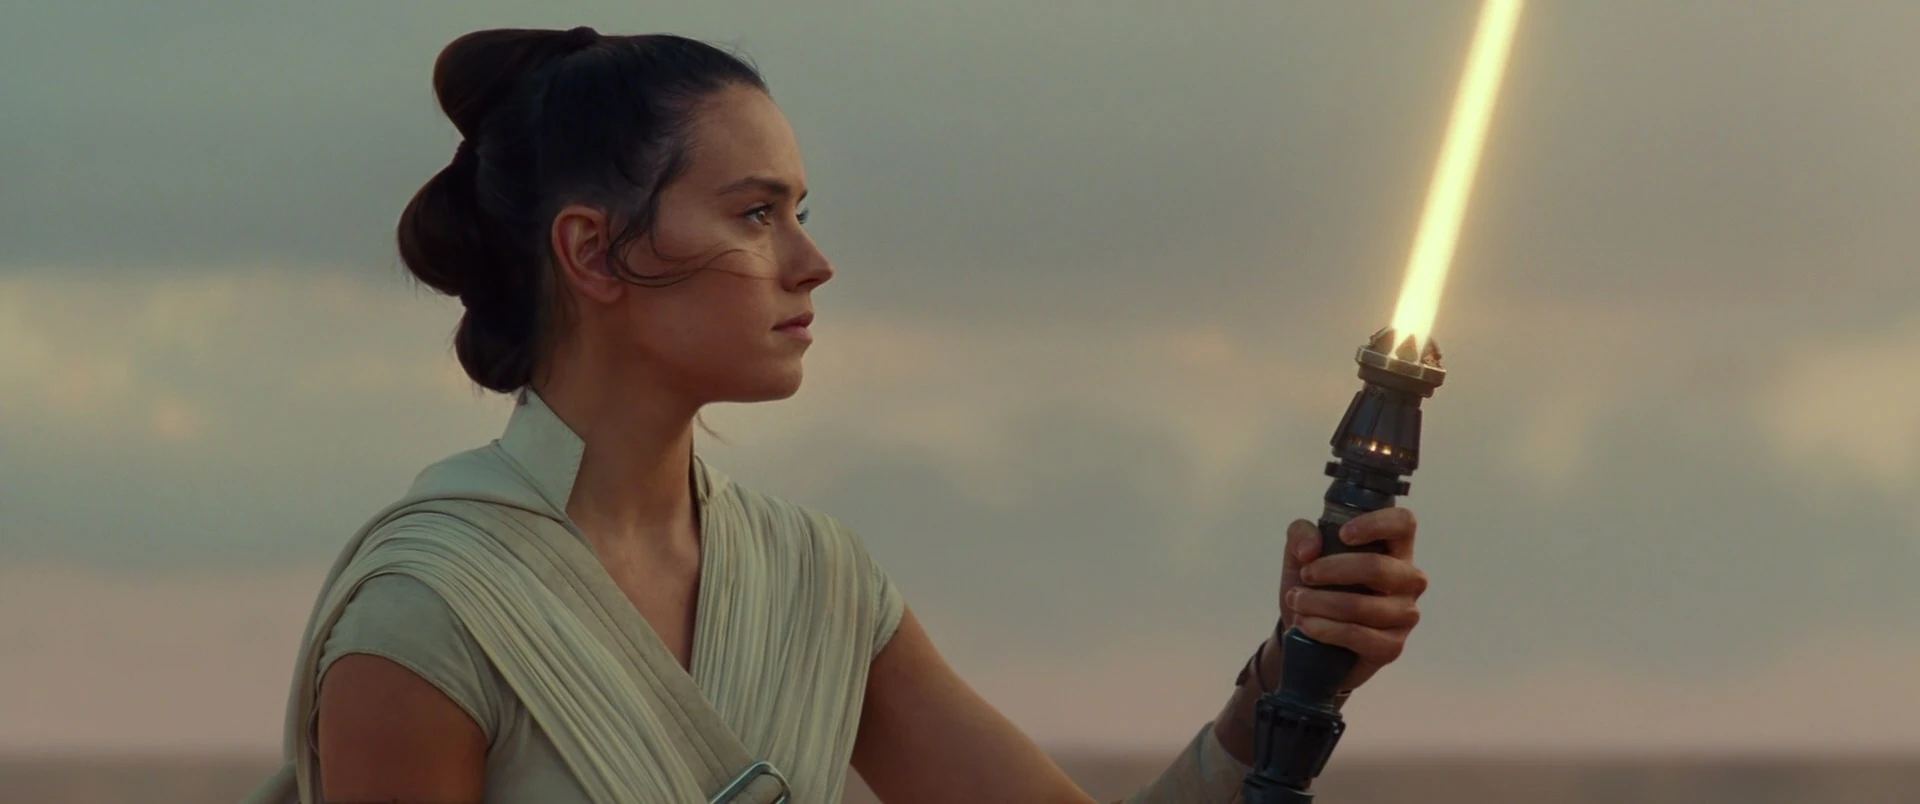Dalek: (1237, 1, 1573, 798)
